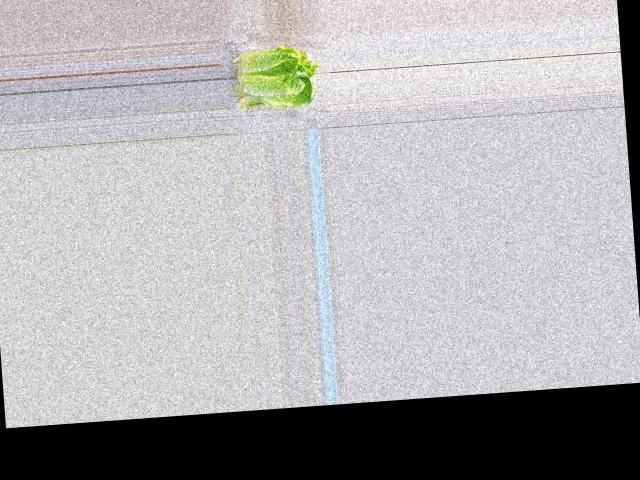lettuce: (236, 43, 321, 111)
